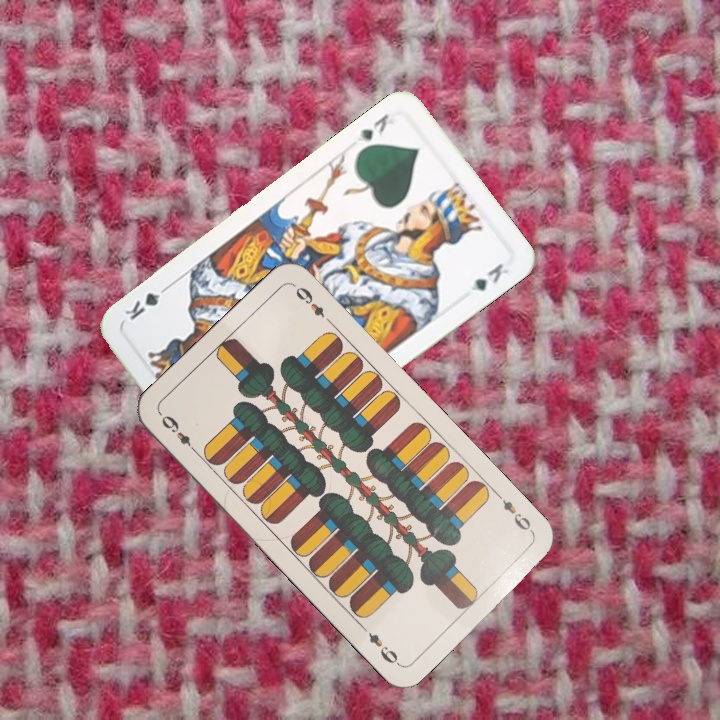E9: (492, 489, 537, 537), (157, 411, 201, 457)
GK: (353, 109, 400, 145)
